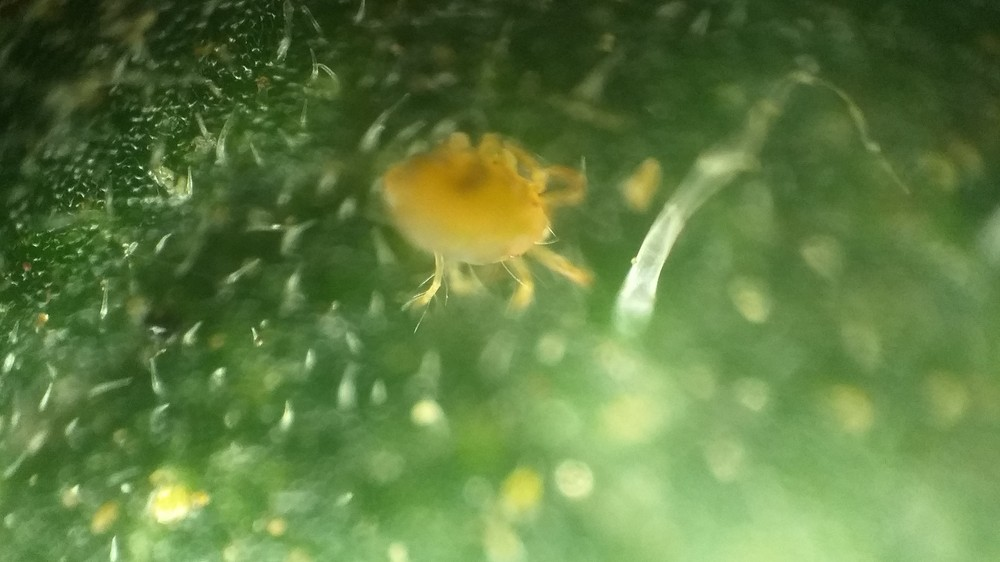Aracnido Rojo: (328, 103, 640, 331)
